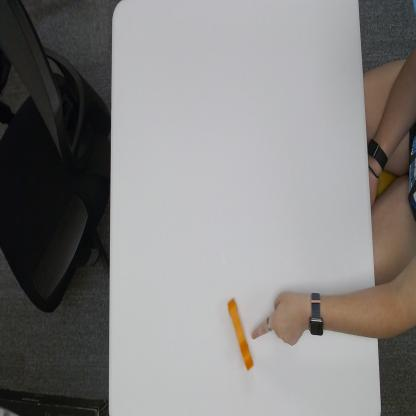Arm: (330, 278, 410, 342)
Hand: (252, 286, 307, 352)
Screwdriver: (222, 295, 256, 374)
